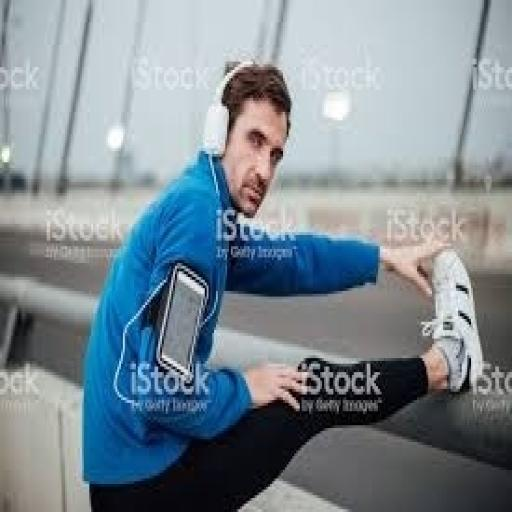listening_to_music: (78, 56, 484, 509)
